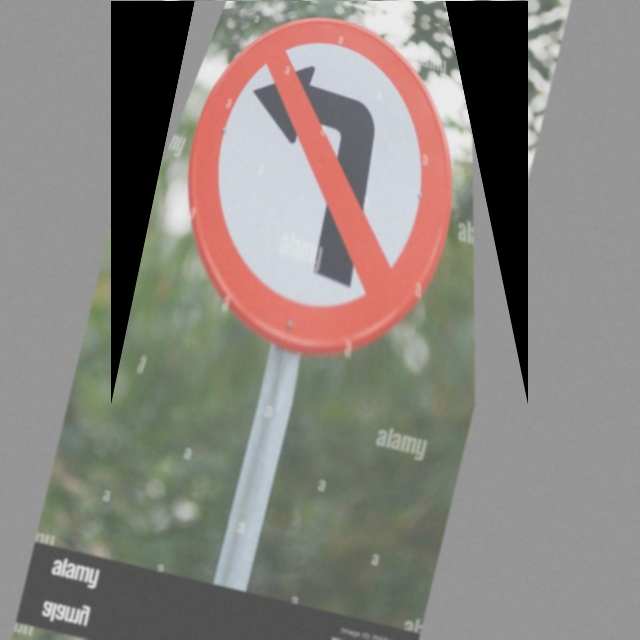Left_Turn_Prohibited: (111, 1, 528, 405)
